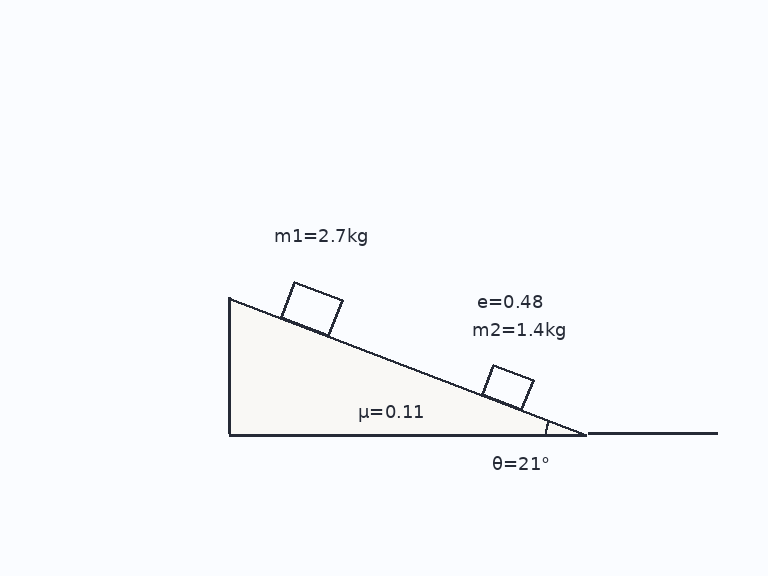block: (279, 280, 344, 337), (480, 364, 534, 411)
ramp: (227, 295, 588, 436)
